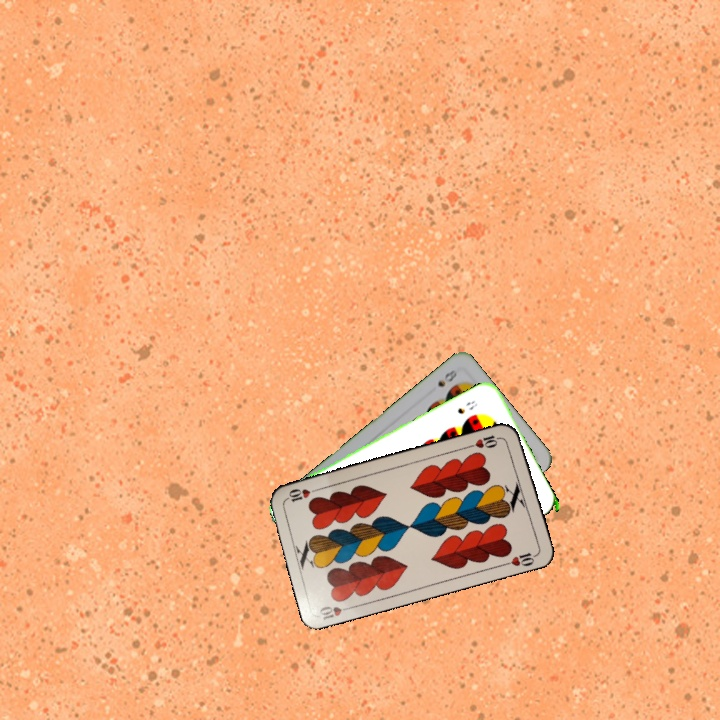H10: (465, 430, 505, 451), (315, 602, 356, 622)
S8: (433, 365, 459, 390), (453, 396, 480, 417)
